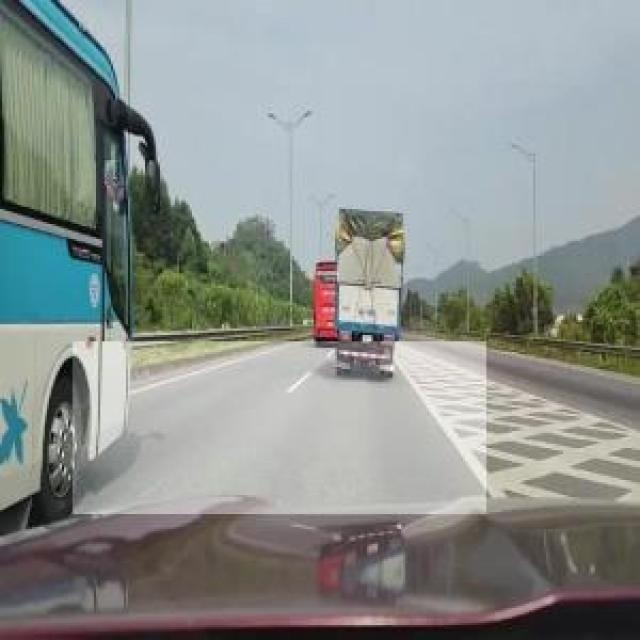clear-road: (75, 342, 486, 514)
